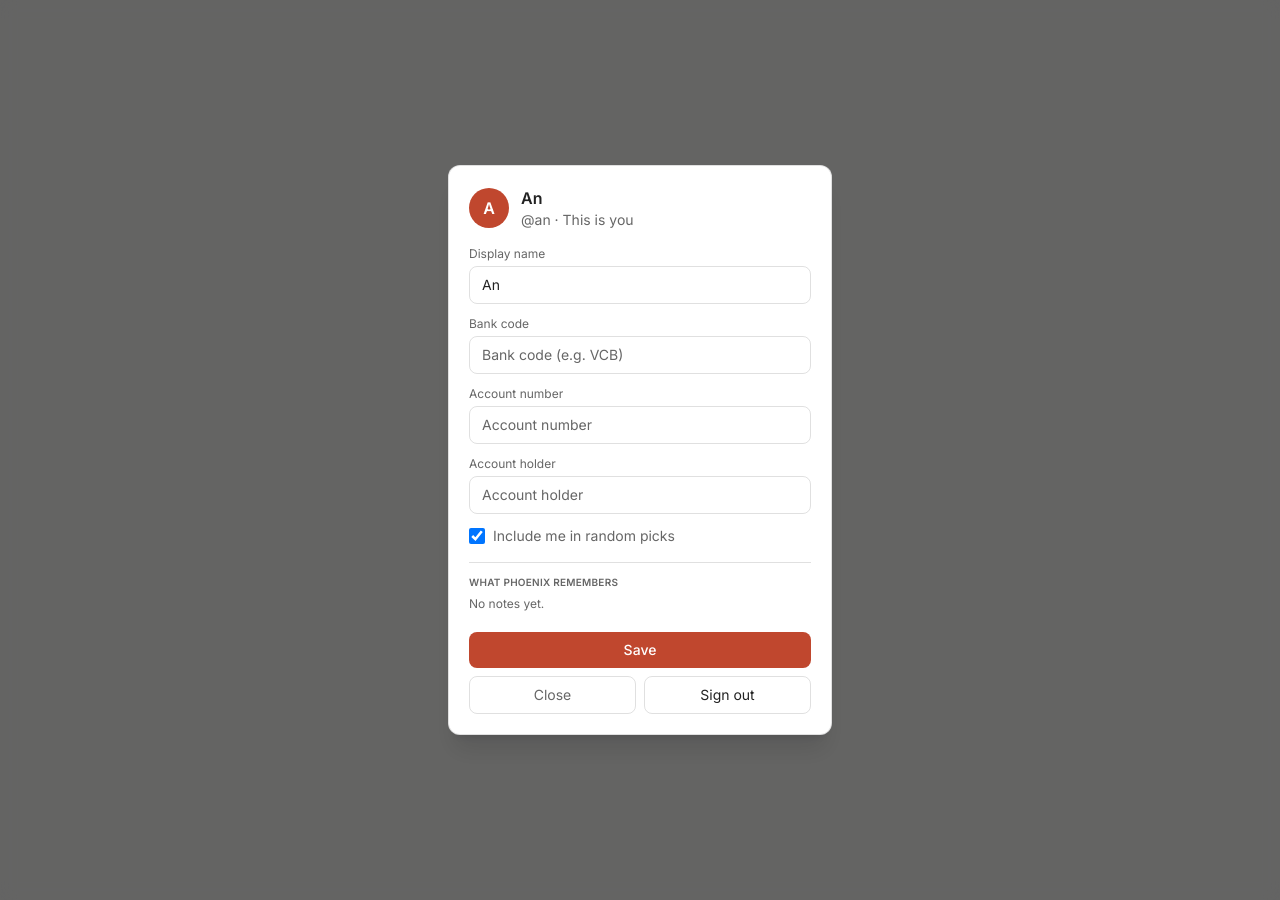
Test: ProfileDialog save-back › does not touch the saved profile when the save fails
The image size is (1280, 900).
Replace the text in the field labelled "Display name" with "X" at (640, 285), box x1=469 y1=266 x2=811 y2=304
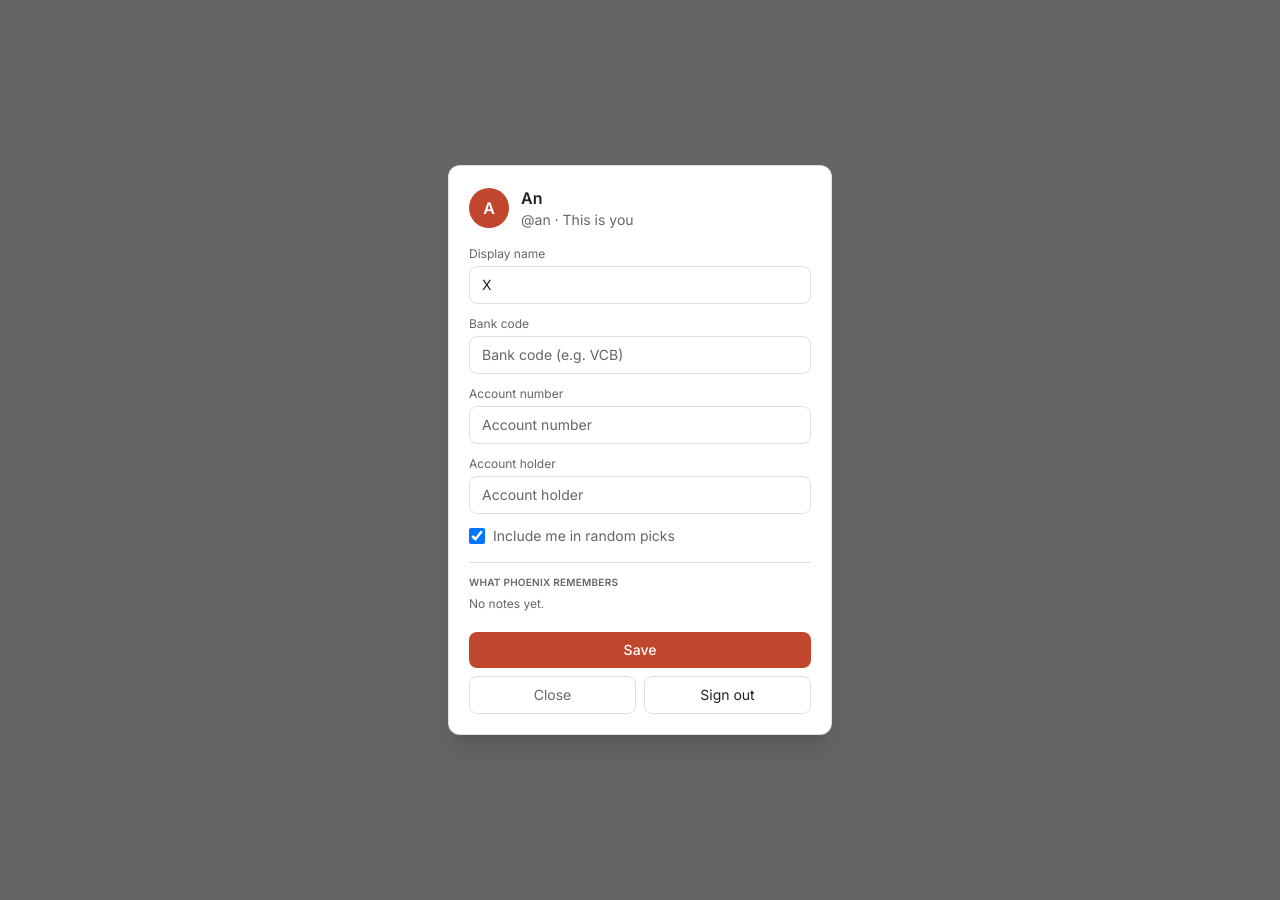
Click the button "Save" at (640, 650), box x1=469 y1=632 x2=811 y2=668
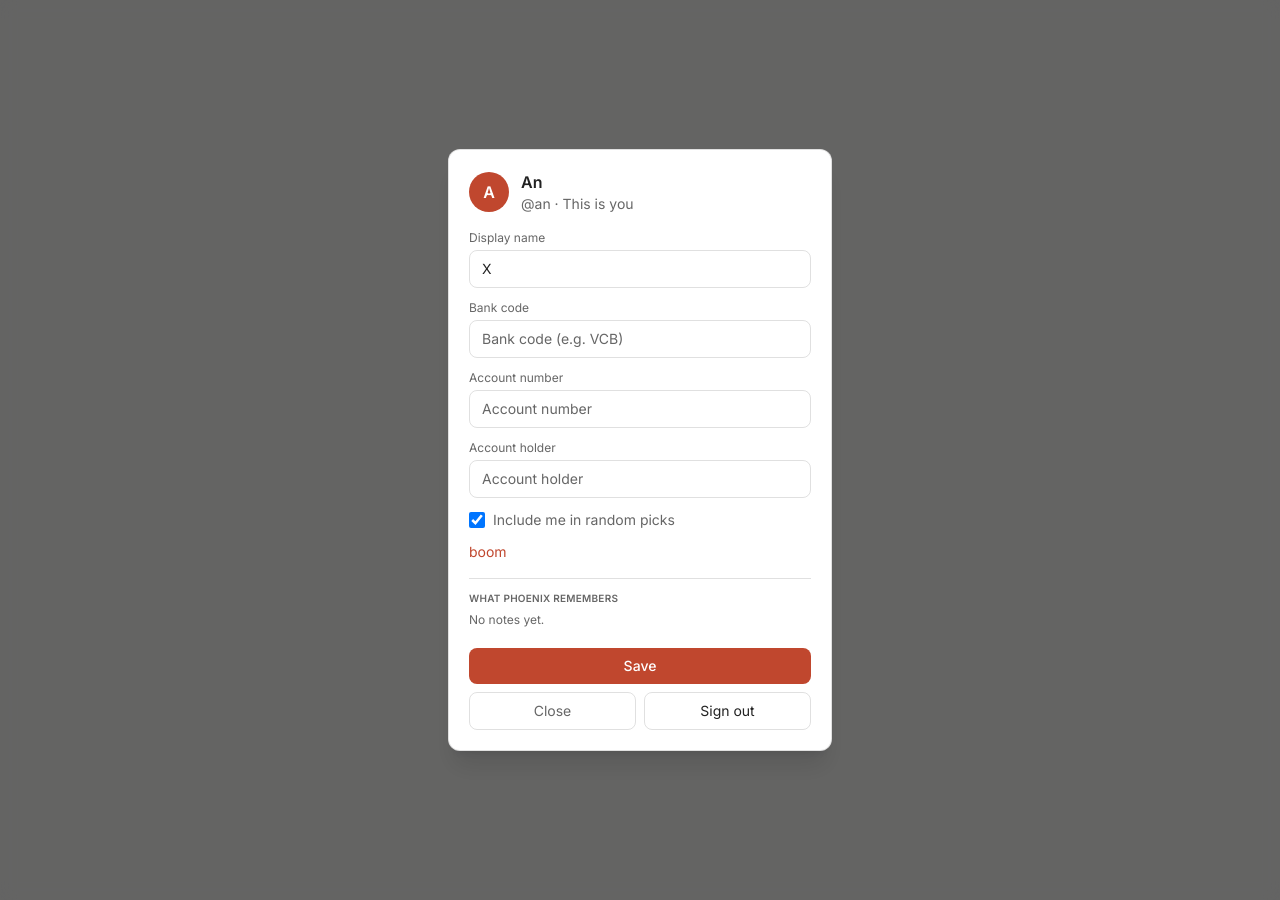
Result: the message "boom" is shown at x1=469 y1=543 x2=507 y2=560
